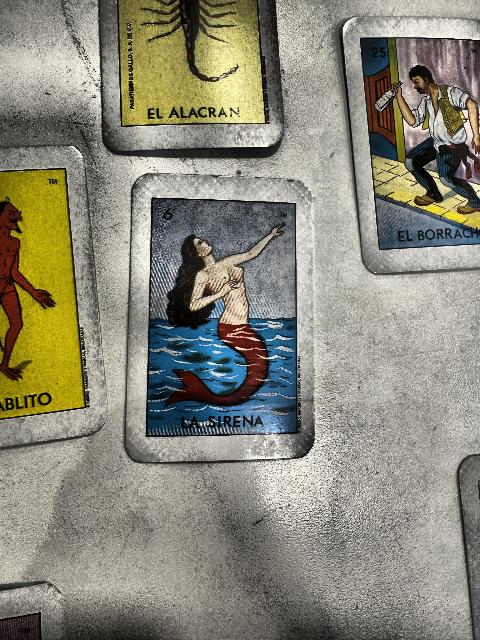La Sirena: (149, 200, 297, 435)
